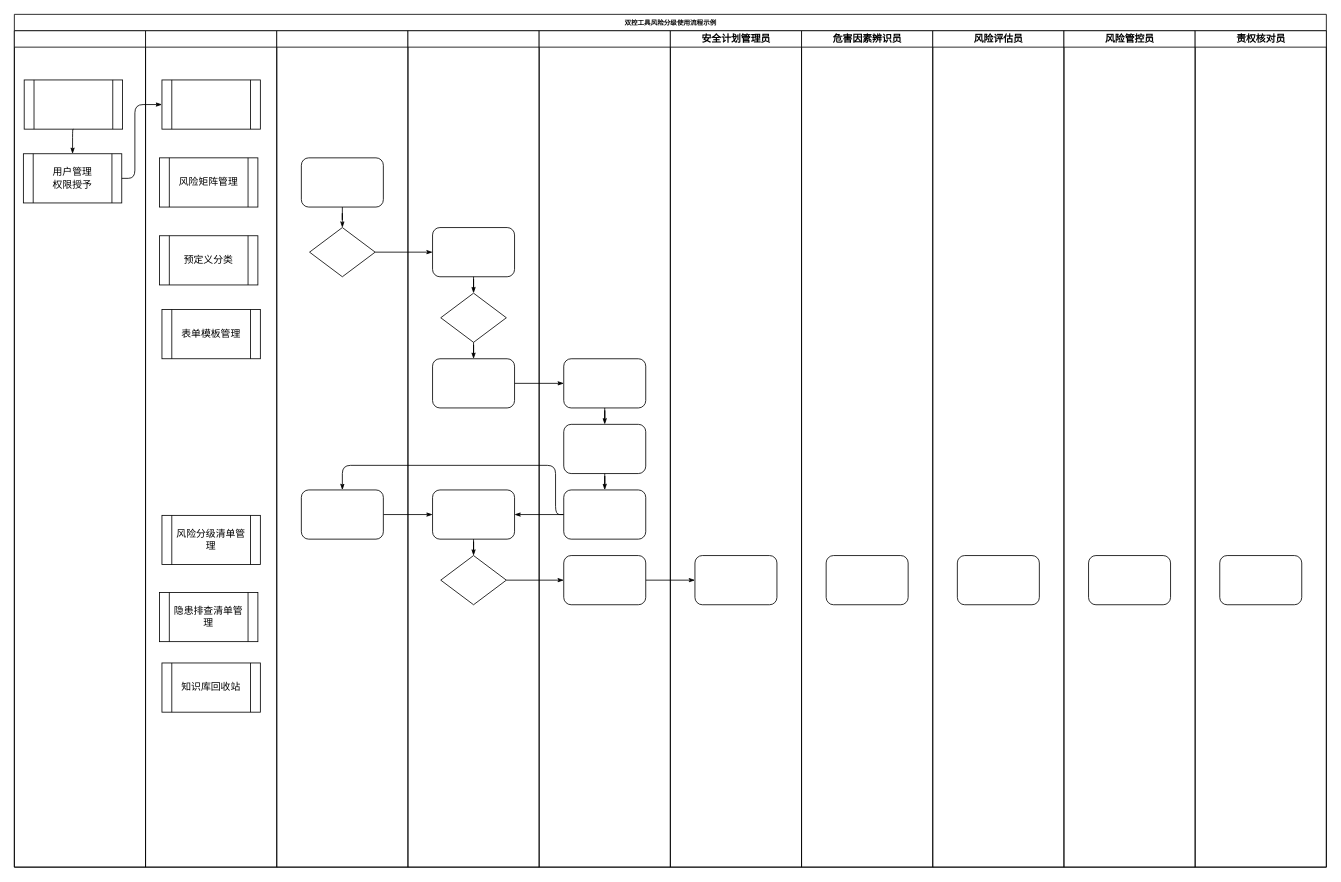
The diagram is 1341 pixels wide and 882 high, and some of its shapes have lost their labels. The box of each missing label's shape, as (x1, y1, x2, y2) in pixels:
初始化工具（包含基本数据的初始化）: (23, 79, 123, 129)
安全知识管理员: (538, 30, 670, 867)
标准管理: (161, 79, 260, 129)
知识库管理员: (145, 30, 277, 867)
组织管理员（服务企业）: (407, 30, 539, 867)
组织管理员（服务组织）: (276, 30, 408, 867)
超级管理员: (14, 30, 146, 867)
